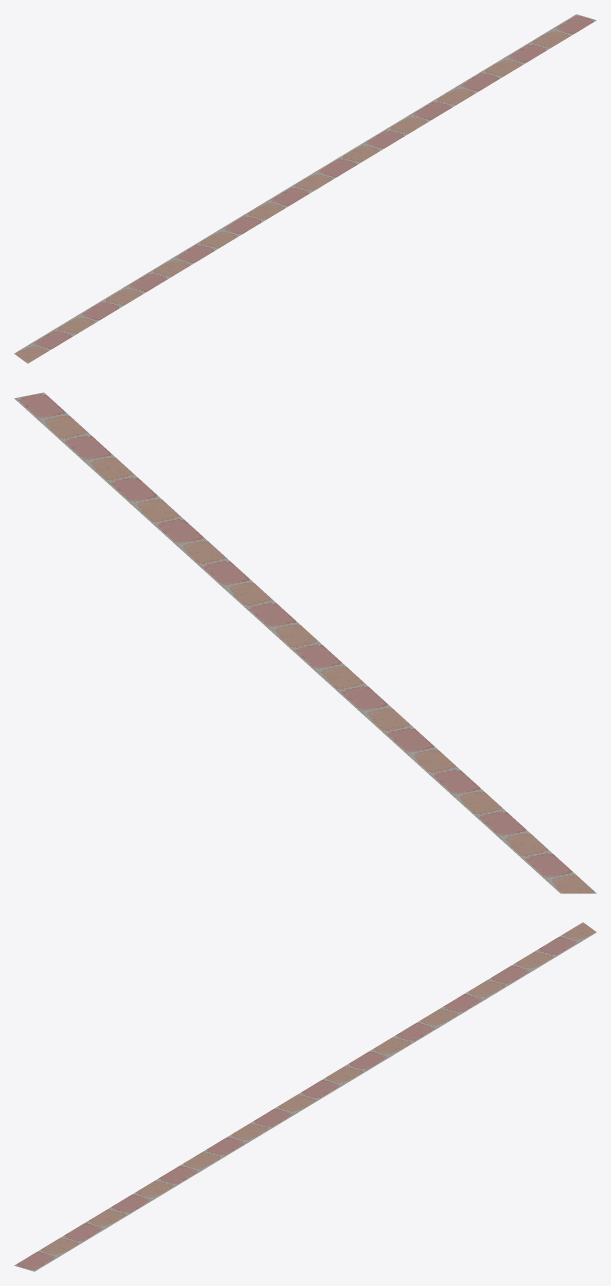
The model's file is kd_stage_135ebf_2_34.glb.
3 views of the same model, one above another, from view 1: azimuth 90°, elevation 25°; view 2: azimuth 150°, elevation 25°; view 3: azimuth 270°, elevation 25° (orthographic). The views are drawn at different scales.
Visible parts, largest first — view 1: kd_stage_135ebf_2_34; view 2: kd_stage_135ebf_2_34; view 3: kd_stage_135ebf_2_34.
Boxes of the visible parts, left/top/right/bottom form: kd_stage_135ebf_2_34: left=14, top=14, right=596, bottom=363; kd_stage_135ebf_2_34: left=14, top=392, right=596, bottom=893; kd_stage_135ebf_2_34: left=14, top=922, right=596, bottom=1271.
Bounding box in the file's own units: 9.88 × 2.98e-07 × 6.96.
Materials: 1 (1 with a texture image).
